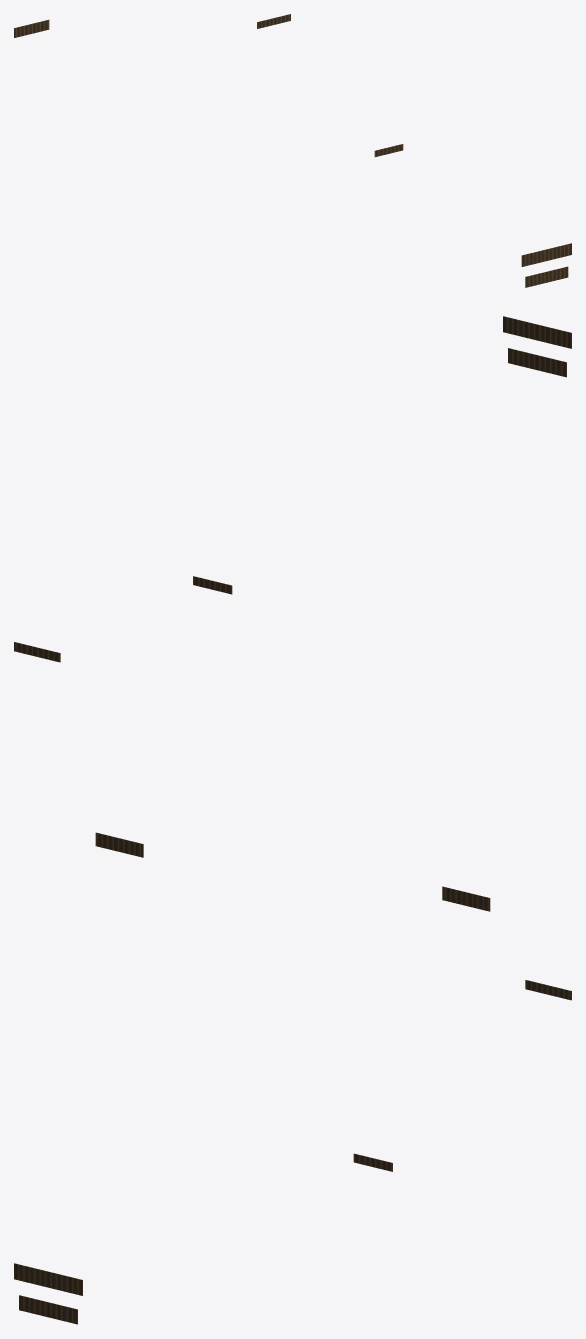
Rendered from A_signs.glb.
3 renders of one model, top to bottom at view 1: azimuth 30°, elevation 25°; view 2: azimuth 150°, elevation 25°; view 3: azimuth 330°, elevation 25°, orthographic. The views are drawn at different scales.
Parts seen in each view (by area): view 1: A_signs; view 2: A_signs; view 3: A_signs.
Boxes of the visible parts, x1,y1,x2,y2 form: A_signs: (14, 14, 571, 287); A_signs: (14, 316, 571, 857); A_signs: (14, 886, 571, 1324).
Bounding box in the file's own units: 28.22 × 8.55 × 108.
6 materials, 6 textured.
